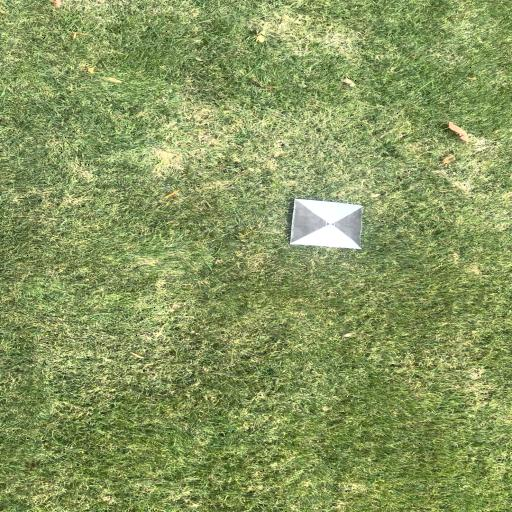target: (290, 199, 363, 249)
